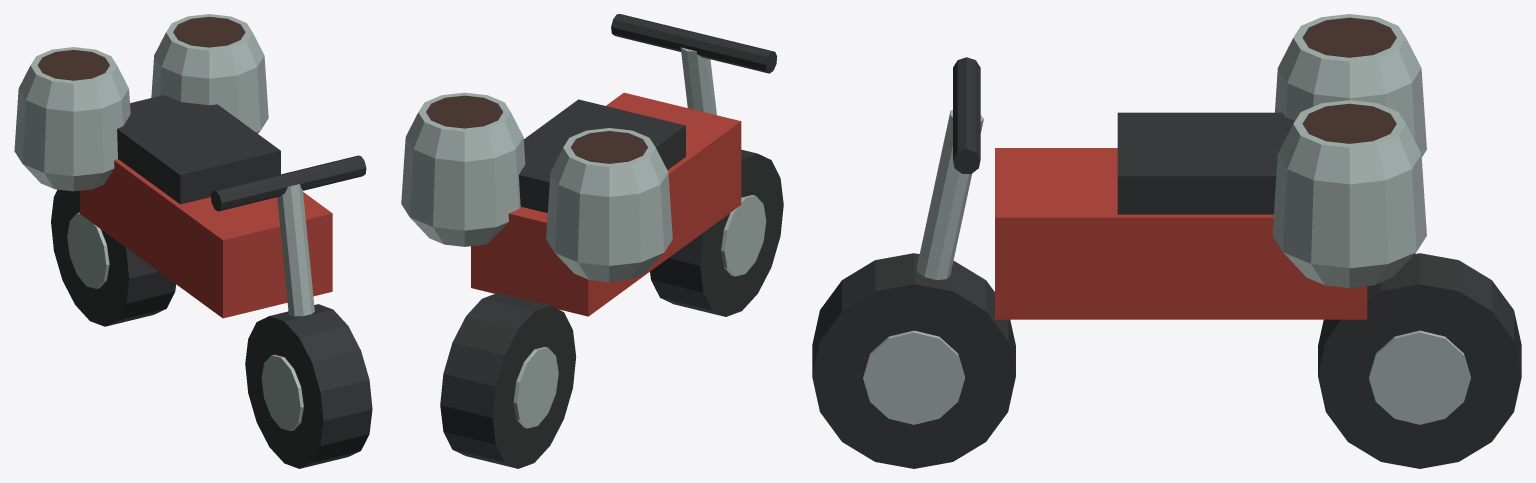
File: 020_milk_delivery_moped.glb
The picture shows the model from 3 angles, left to right: view 1: azimuth 30°, elevation 25°; view 2: azimuth 150°, elevation 25°; view 3: azimuth 270°, elevation 25°; orthographic projection. The views are drawn at different scales.
Visible parts, largest first — view 1: Milk delivery moped; view 2: Milk delivery moped; view 3: Milk delivery moped.
Boxes of the visible parts, box(x1,y1,x2,y2) form: Milk delivery moped: box(14, 14, 372, 468); Milk delivery moped: box(401, 14, 783, 468); Milk delivery moped: box(812, 14, 1521, 468).
Size of the model in its own units: 1.02 by 1.17 by 2.02.
